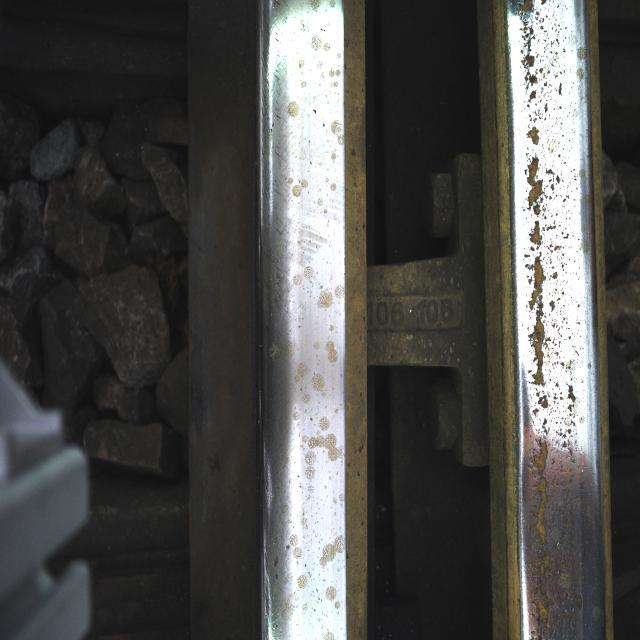scar: (270, 6, 346, 582), (511, 0, 565, 635)
